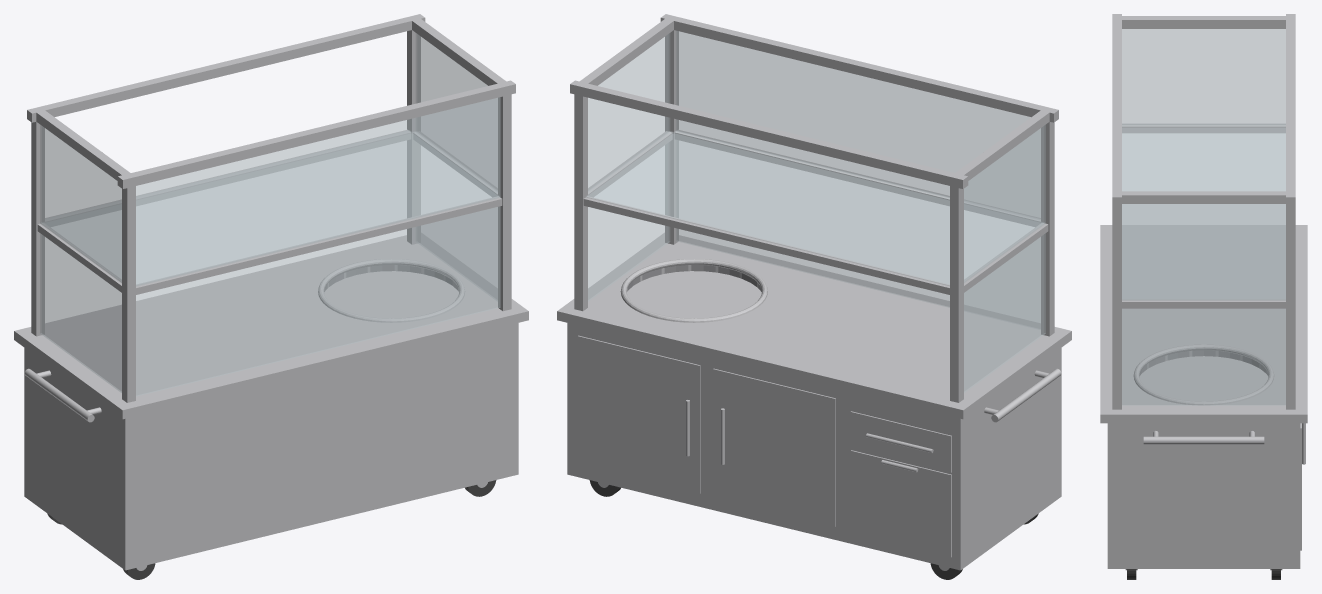
Rendered from CART_pho_v1.glb.
3 views of the same model, side by side, from view 1: azimuth 30°, elevation 25°; view 2: azimuth 150°, elevation 25°; view 3: azimuth 270°, elevation 25° (orthographic). The views are drawn at different scales.
Visible parts, largest first — view 1: Cabinet, GlassBack, CounterSlab, ShelfGlass, GlassLeft, GlassRight, TopBarBack, TopBarFront, ShelfBarBack, ShelfBarFront, Post, Post.002 (+9 smaller); view 2: GlassBack, CounterSlab, Cabinet, ShelfGlass, GlassLeft, DoorRight2, DoorRight1, GlassRight, DoorUnderDrawer, TopBarFront, TopBarBack, ShelfBarFront (+13 smaller); view 3: GlassRight, Cabinet, CounterSlab, ShelfGlass, GlassLeft, TopBarRight, TopBarLeft, Post.003, Post.002, TopBarFront, TopBarBack, ShelfBarLeft (+4 smaller).
Part boxes in pixels (x1,y1,x2,y2): Cabinet: (24,271,518,570); GlassBack: (136,97,500,396); CounterSlab: (14,233,528,419); ShelfGlass: (41,130,499,285); GlassLeft: (40,125,121,392); GlassRight: (416,33,497,301); TopBarBack: (117,80,515,188); TopBarFront: (27,14,425,122); ShelfBarBack: (136,196,502,294); ShelfBarFront: (45,129,410,226); Post: (122,173,135,402); Post.002: (498,86,511,311); GlassBack: (676,31,1040,329); CounterSlab: (557,232,1071,419); Cabinet: (567,271,1061,570); ShelfGlass: (586,130,1044,285); GlassLeft: (964,125,1045,392); DoorRight2: (577,335,700,493); DoorRight1: (713,368,835,526); GlassRight: (588,33,669,301); DoorUnderDrawer: (850,450,951,557); TopBarFront: (570,80,968,188); TopBarBack: (660,14,1058,122); ShelfBarFront: (583,196,949,294); GlassRight: (1122,204,1285,405); Cabinet: (1107,356,1300,568); CounterSlab: (1100,225,1307,423); ShelfGlass: (1122,124,1285,299); GlassLeft: (1122,29,1285,190); TopBarRight: (1117,191,1290,203); TopBarLeft: (1117,16,1290,28); Post.003: (1286,191,1295,409); Post.002: (1112,191,1121,409); TopBarFront: (1286,14,1295,205); TopBarBack: (1112,14,1121,205); ShelfBarLeft: (1122,123,1285,133).
Size of the model in its own units: 1.97 by 1.8 by 0.86.
